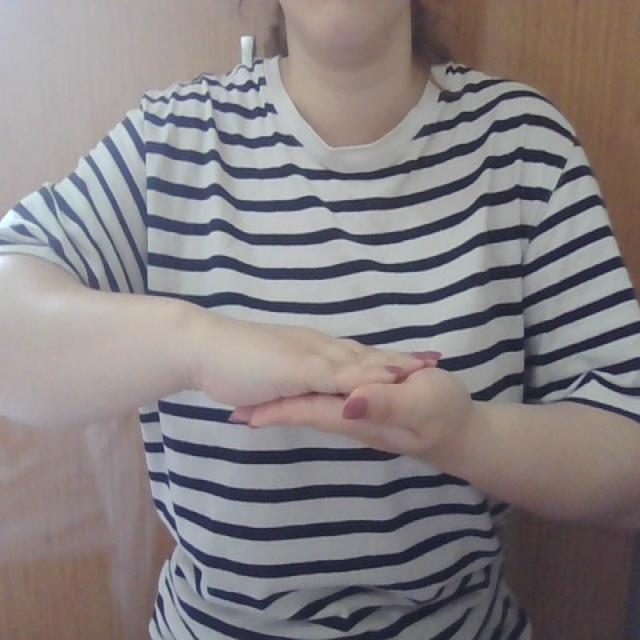Arkadas: (185, 292, 515, 474)
